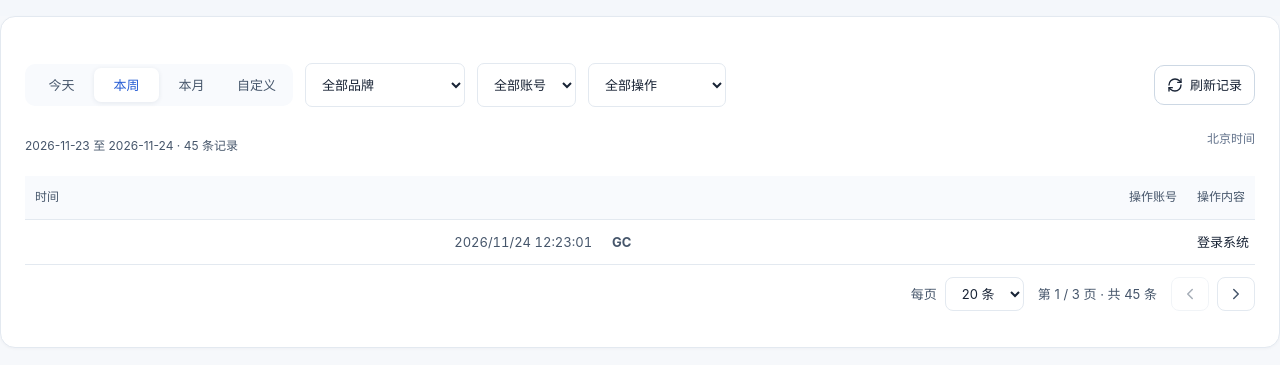
Test case: shared admin audit report design › preserves pagination, filters and retries without showing stale records
The width and height of the screenshot is (1280, 365).
Click the button named "操作记录下一页" at (1236, 294), box [1217,277,1255,311]
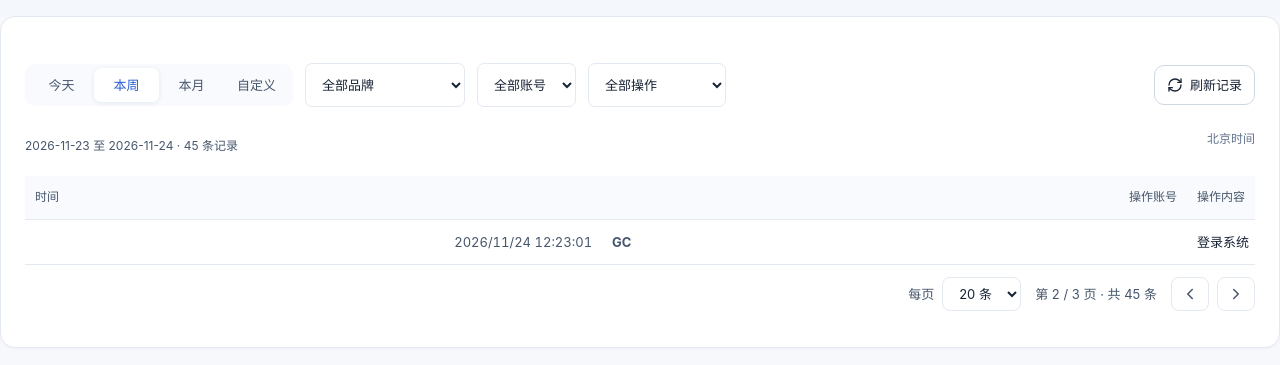
Select "账号与系统操作" in the dropdown named "操作类型" at (657, 85), box [588,63,726,107]
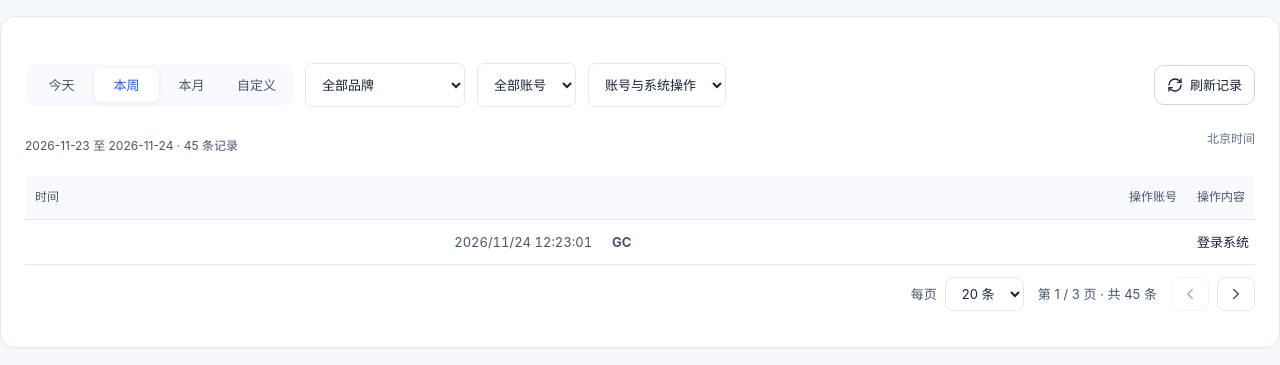
Click the button "刷新记录" at (1204, 85), box [1154,65,1255,105]
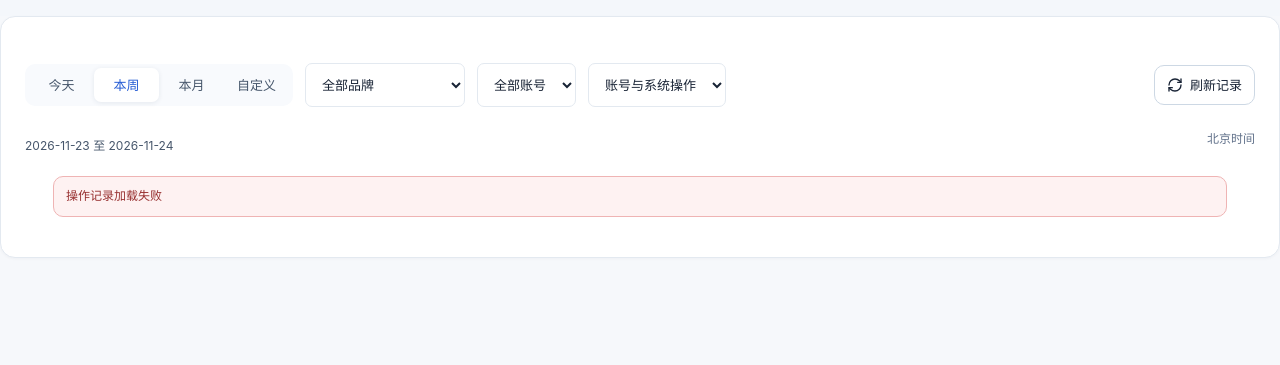
Expected: the message "操作记录加载失败" is shown, [53,176,1227,217]
Click the button "刷新记录" at (1204, 85), box [1154,65,1255,105]
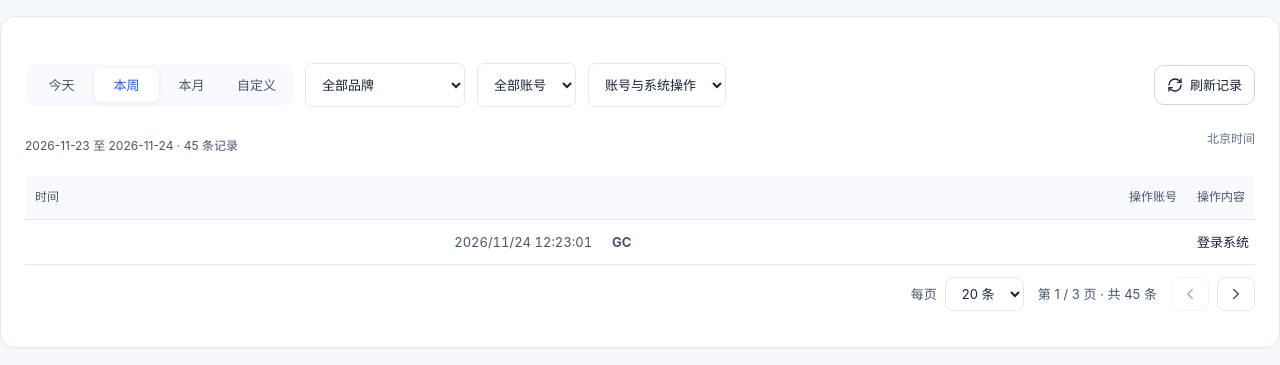
Expected: the table is shown, [25,220,1255,265]
